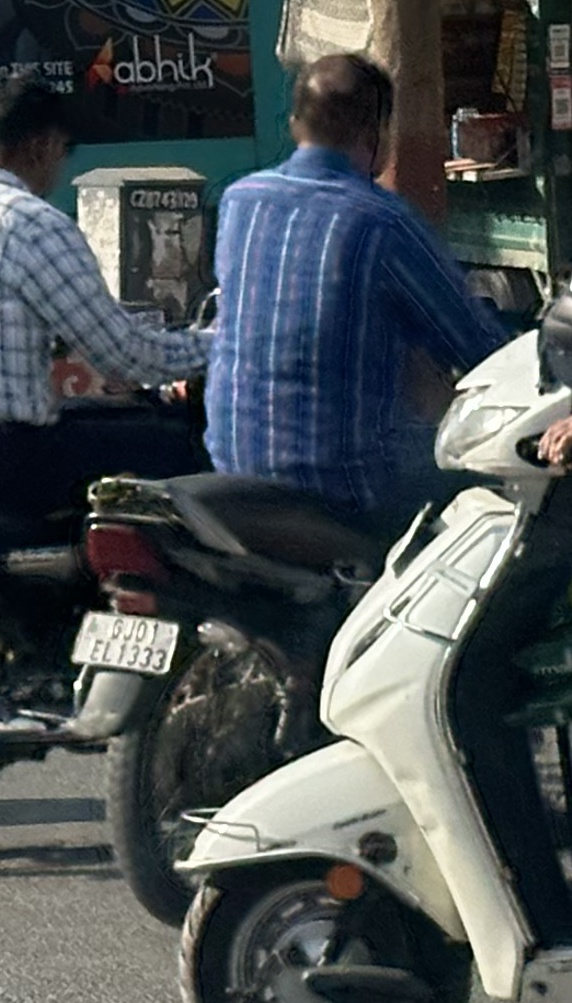BikeWithRider: (60, 35, 572, 1003)
NoHelmet: (272, 39, 407, 192)
